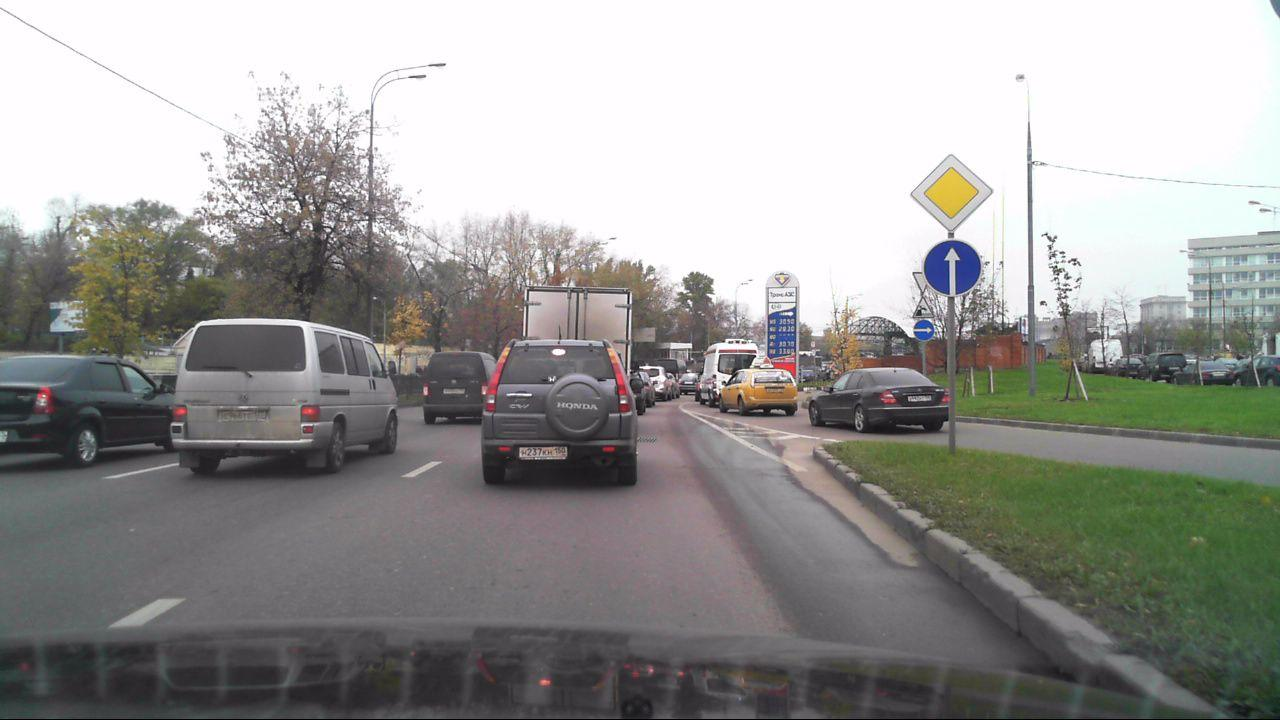1_10: (912, 297, 934, 317)
2_1: (908, 151, 996, 232)
2_4: (912, 269, 928, 293)
4_1_1: (923, 241, 983, 298)
4_2_1: (913, 320, 935, 343)
